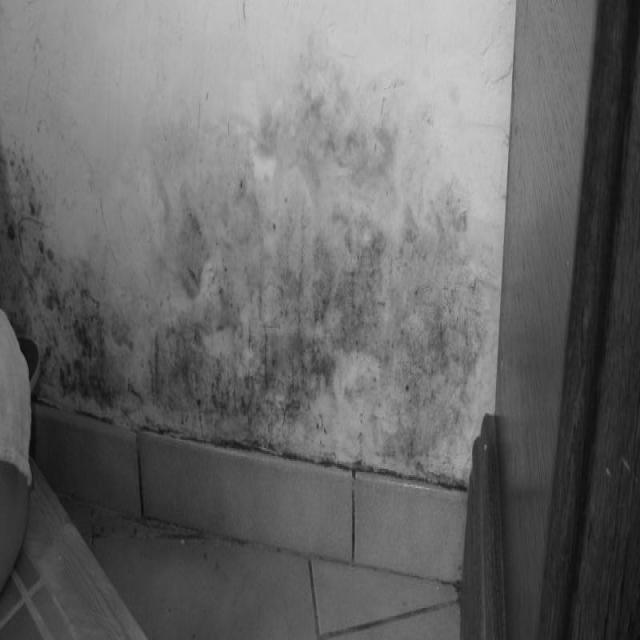stain marks: (0, 33, 491, 484)
